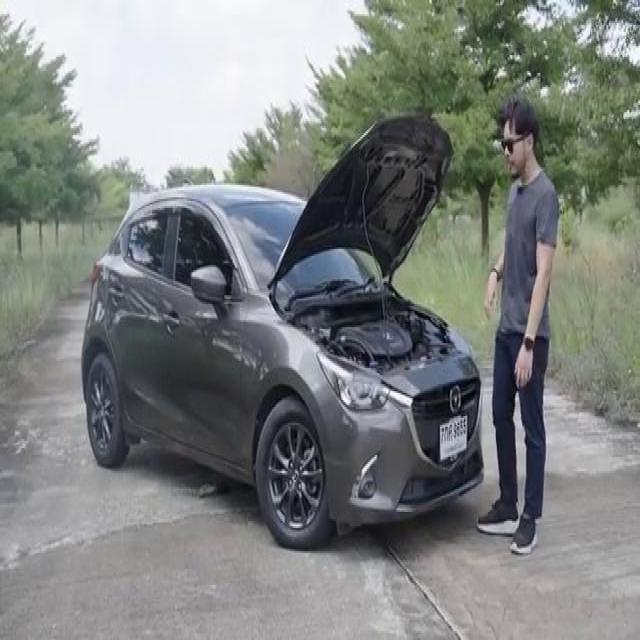Hatchback: (81, 116, 483, 548)
